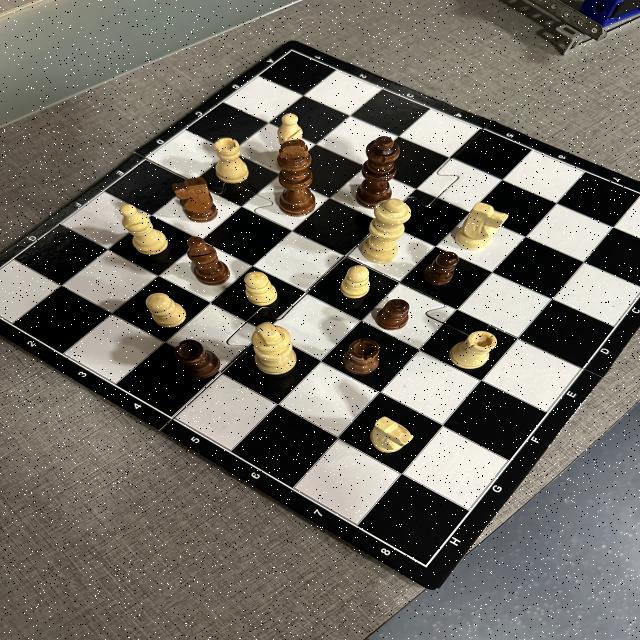Black-Bishop: (187, 236, 230, 286)
Black-King: (276, 139, 316, 217)
Black-Knight: (172, 177, 218, 223)
Black-Pawn: (423, 252, 459, 286), (376, 298, 410, 330)
Black-Queen: (356, 136, 400, 208)
Black-Rook: (174, 339, 221, 379), (342, 338, 380, 375)
White-Bishop: (119, 204, 168, 255), (278, 114, 304, 142)
White-King: (252, 321, 298, 375)
White-Knight: (455, 202, 509, 250), (370, 416, 414, 454)
White-Pawn: (146, 292, 188, 328), (244, 272, 278, 306), (340, 265, 370, 299)
White-Queen: (362, 198, 412, 264)
White-Rook: (449, 331, 498, 369), (214, 138, 250, 184)
